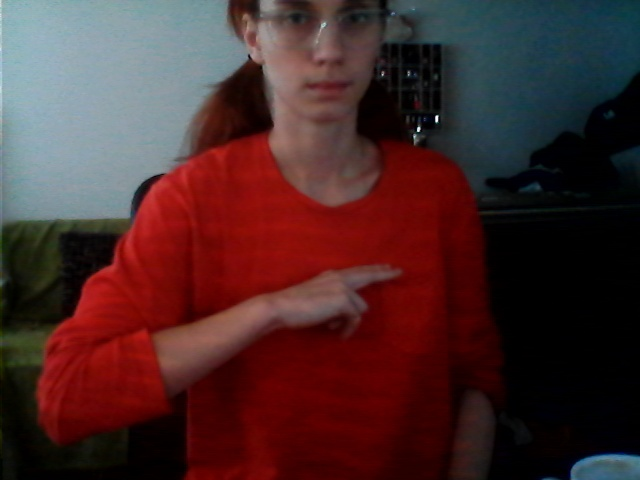frajer: (246, 250, 429, 354)
